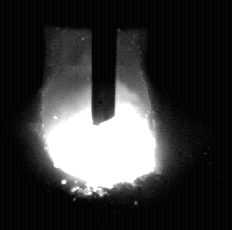arame: (92, 0, 117, 126)
poca: (44, 0, 156, 230)
